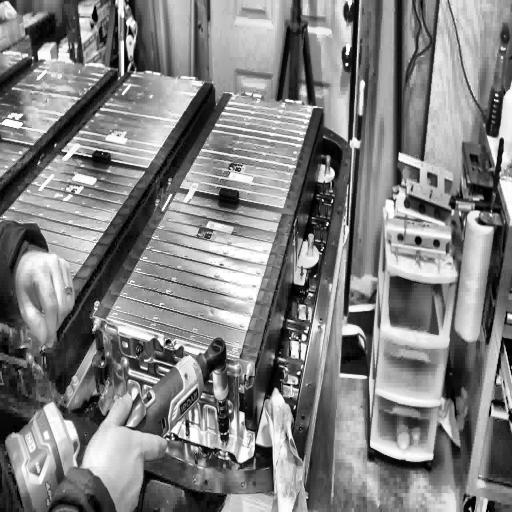battery_module: (106, 192, 281, 358), (0, 155, 145, 322), (179, 95, 314, 207), (62, 73, 204, 166)
